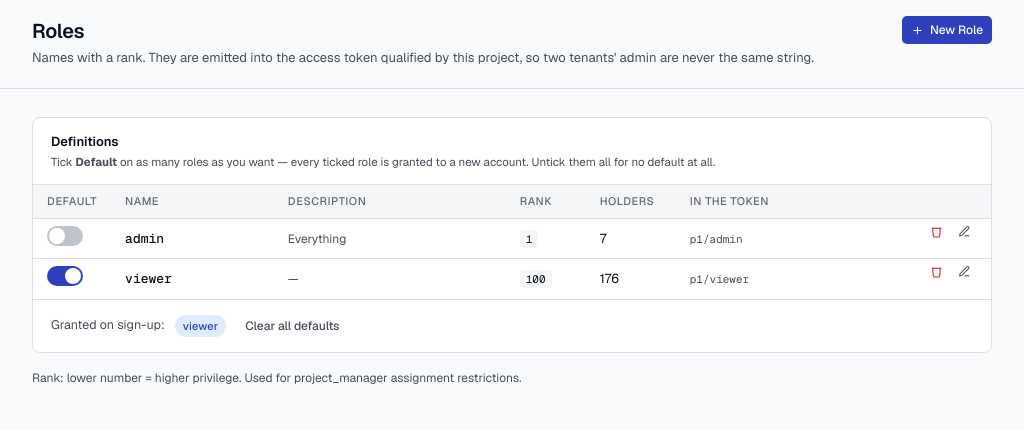
Test: the roles granted on sign-up › falls back to its own words for a failure that carries none
Check: the text "admin" is shown, box [125,230,164,247]
What coordinates should you click on to do the following:
click the checkbox named "Grant admin on sign-up"
I would click on:
 (65, 236)
Its box is [47,226,83,246].
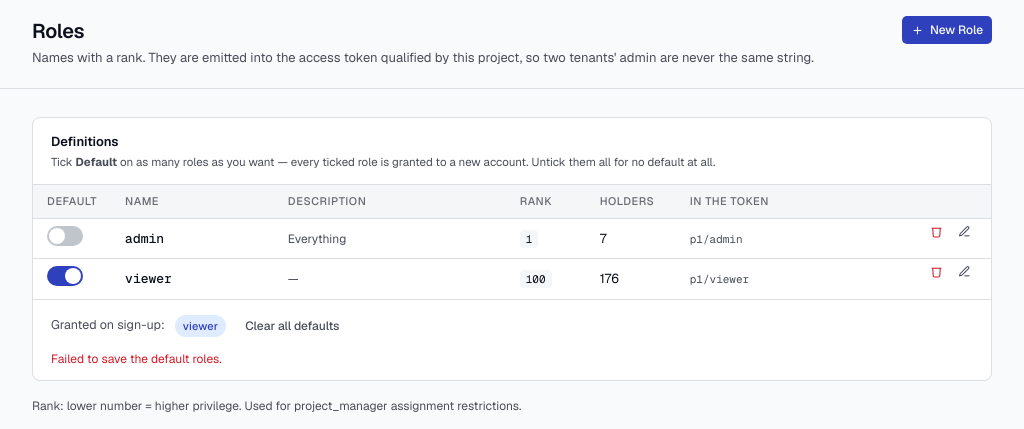
Check: the text "Failed to save the default roles." is shown, box [51,351,222,367]
